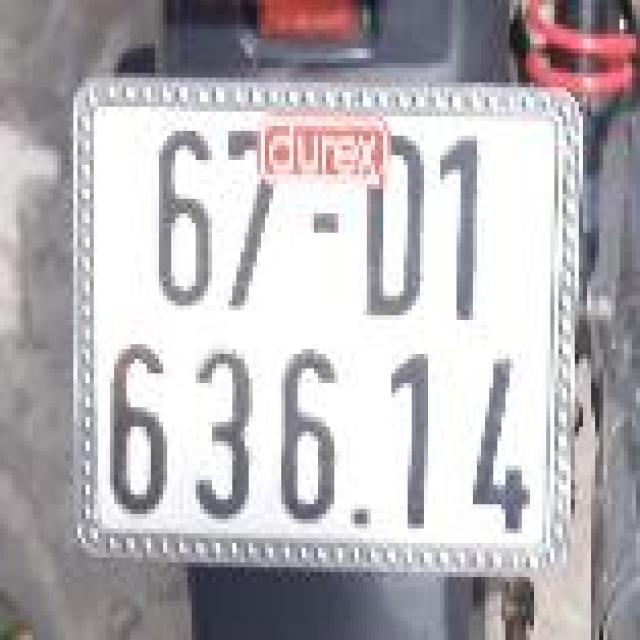1: (434, 121, 504, 335), (389, 342, 446, 536)
3: (185, 342, 259, 526)
4: (459, 337, 540, 541)
6: (269, 325, 338, 538), (98, 330, 171, 518), (155, 121, 216, 315)
7: (222, 117, 288, 316)
D: (353, 119, 430, 327)
